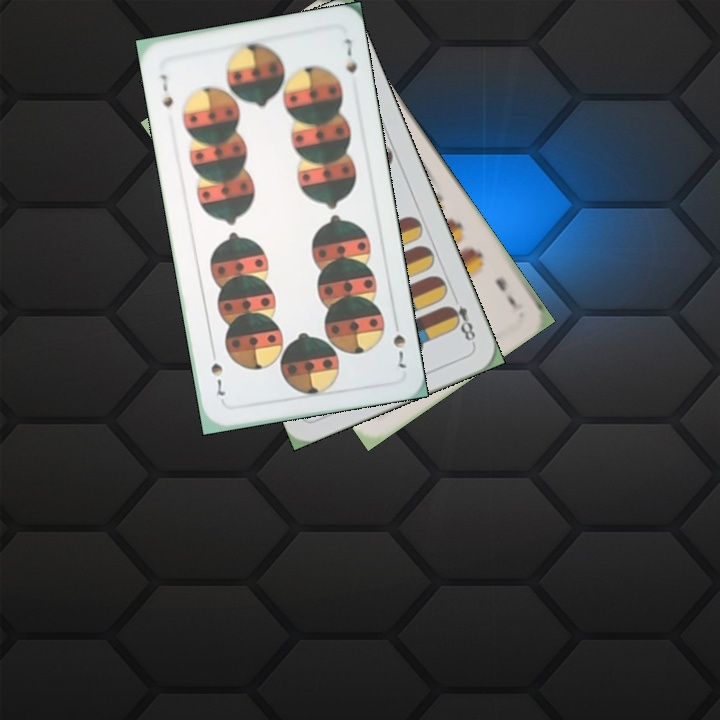E7: (491, 273, 526, 313)
E8: (443, 291, 478, 348)
S7: (389, 315, 410, 371), (156, 70, 176, 110)
